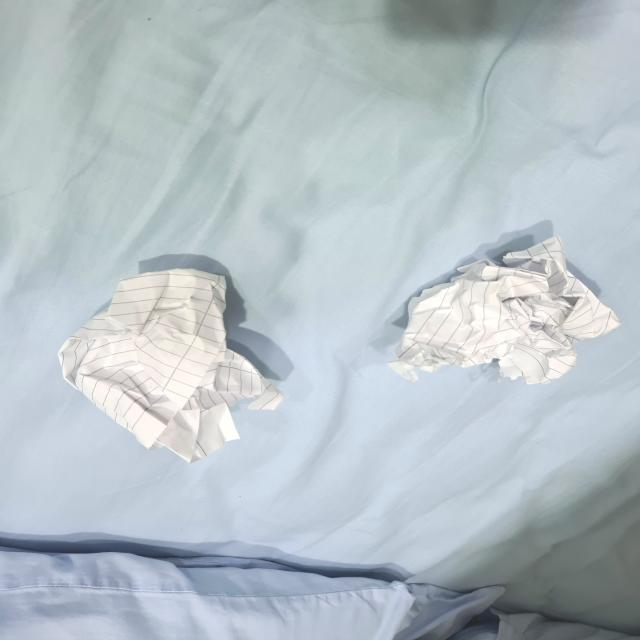Paper: (43, 255, 316, 473), (384, 225, 632, 407)
